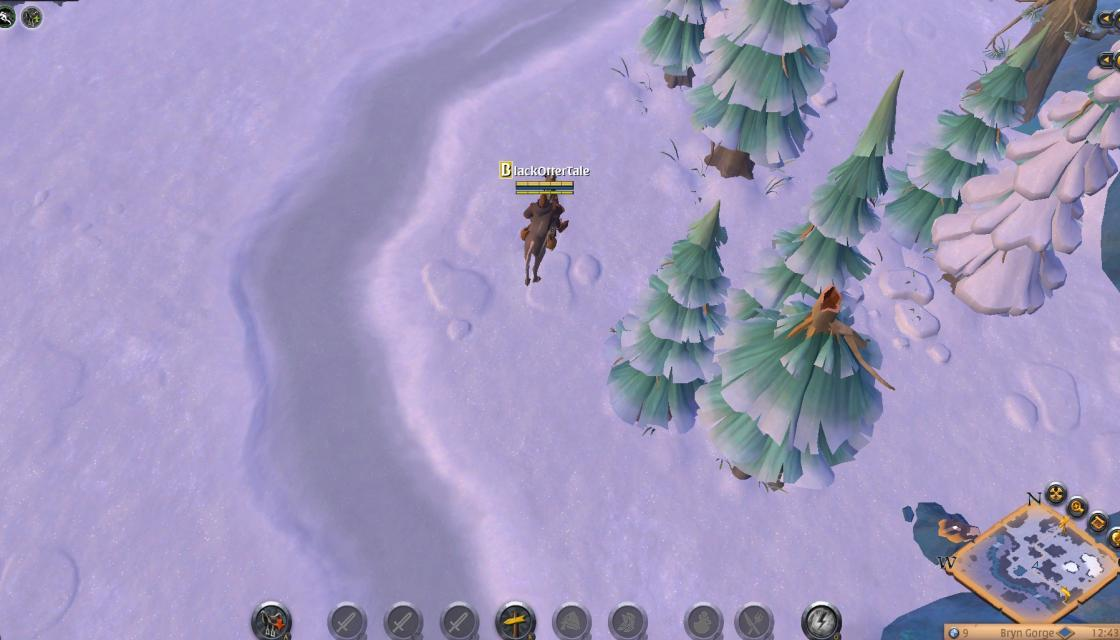copperore: (909, 498, 981, 564)
